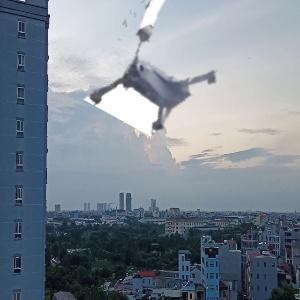drone: (106, 2, 246, 142)
